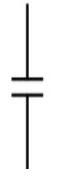Capacitor: (9, 67, 46, 103)
